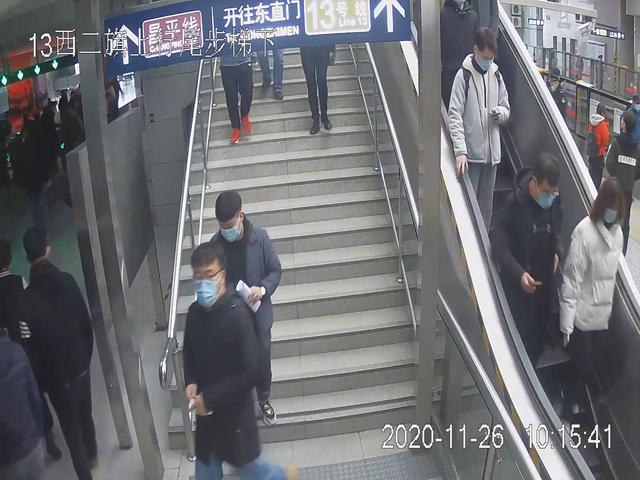person: (183, 238, 293, 480), (16, 219, 108, 480), (562, 166, 634, 433), (205, 191, 282, 432), (492, 152, 565, 383), (446, 22, 510, 252)
